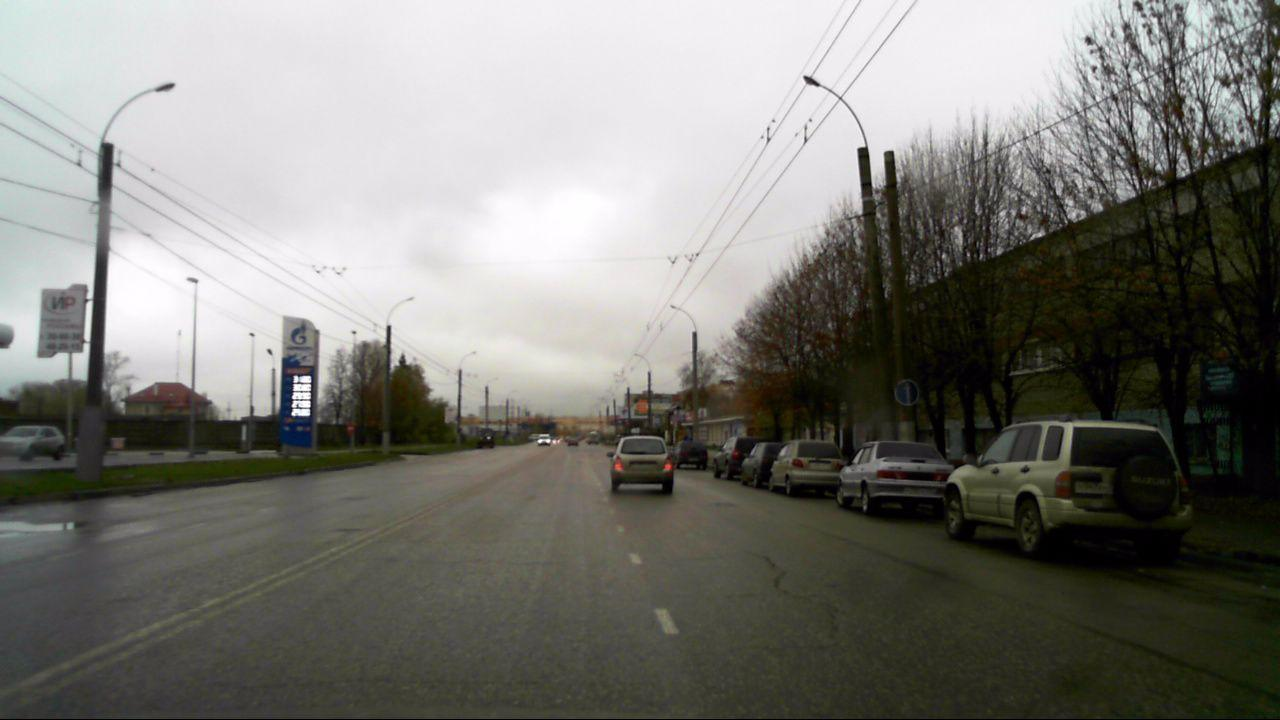4_1_1: (893, 378, 919, 406)
